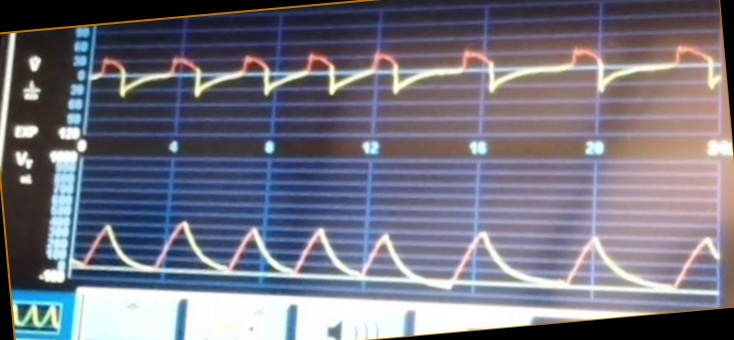Normal Flow: (94, 28, 720, 121)
Normal Volume: (78, 202, 717, 291)
